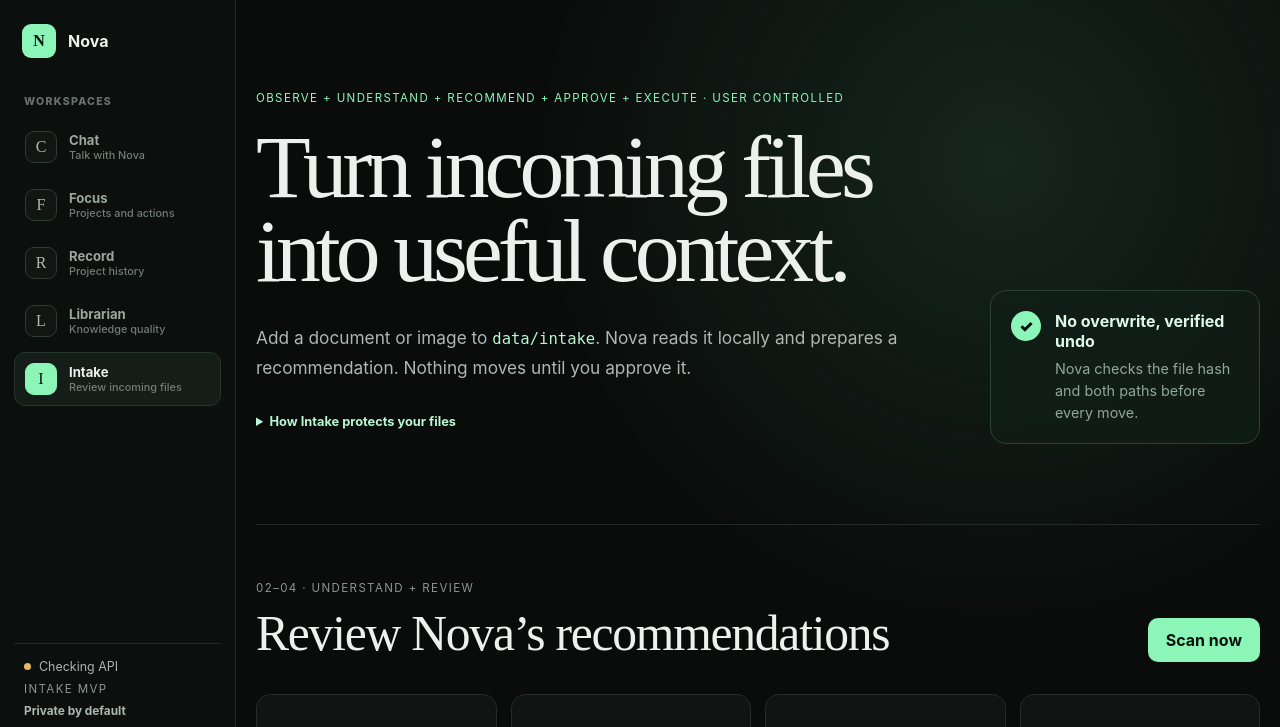
Test: App › does not let an older refresh overwrite newer dashboard state
Click the button "Scan now": point(1204, 640) left=1148, top=618, right=1260, bottom=662
(page scrolled)
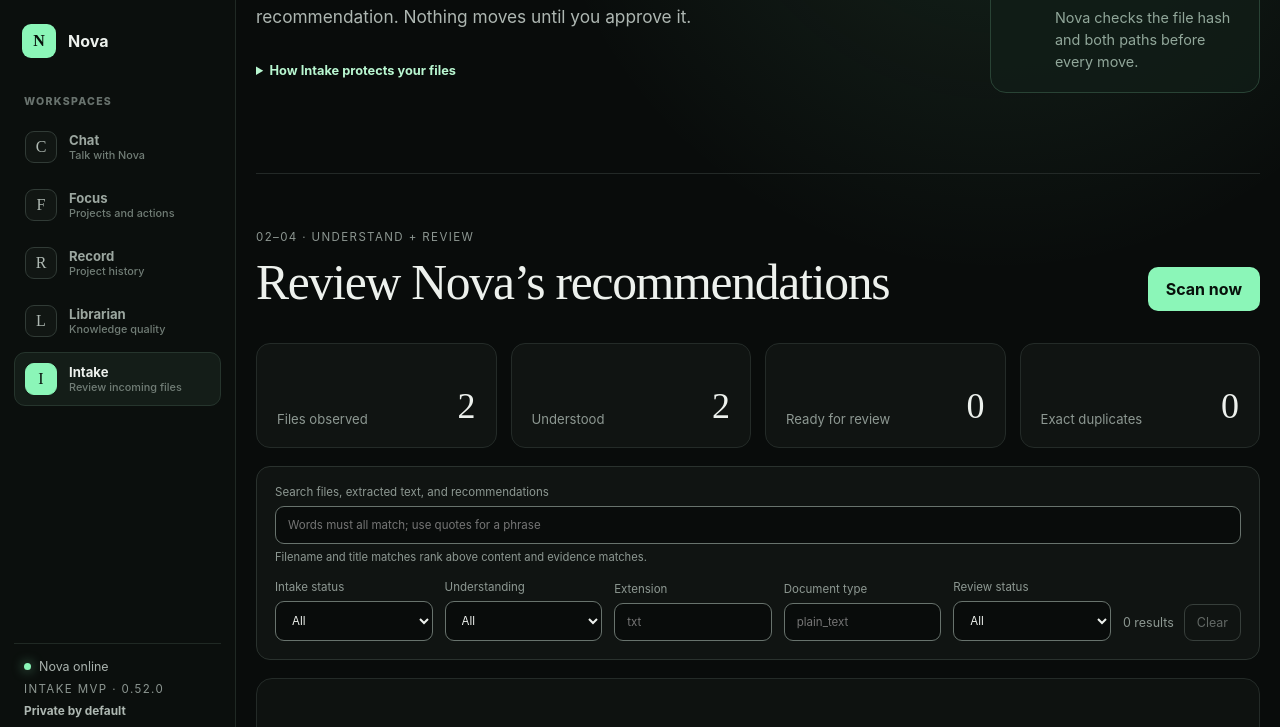
Now the text "Files observed" shows "2", box left=458, top=386, right=476, bottom=426
